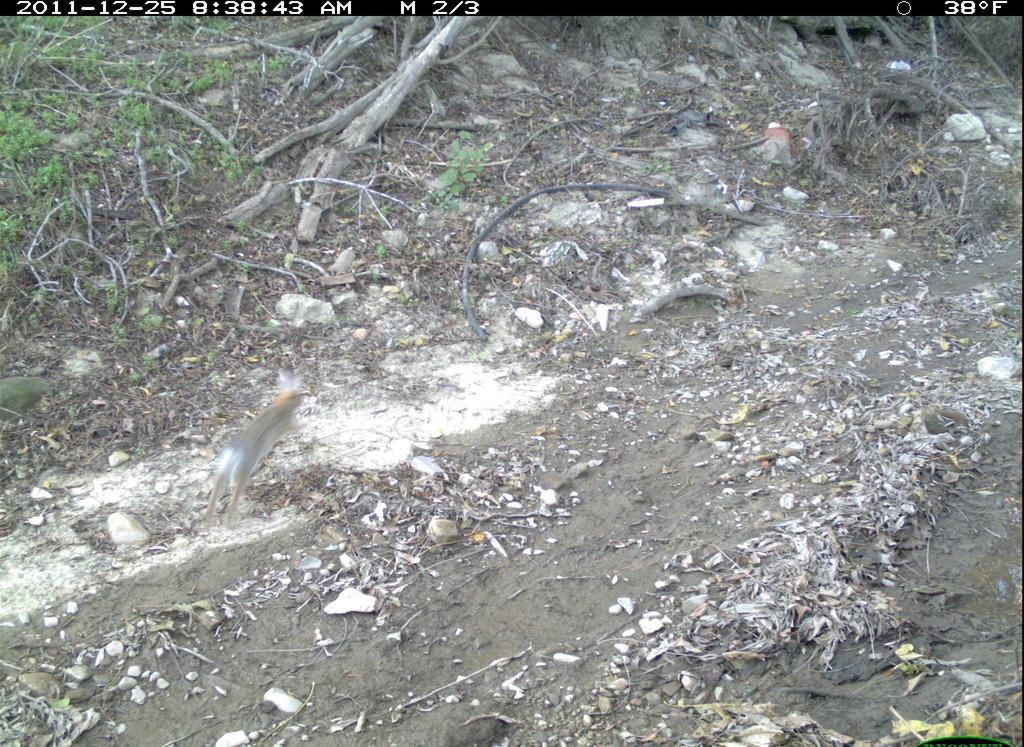rabbit: (186, 355, 331, 541)
